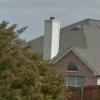Chimney: (38, 10, 65, 64)
